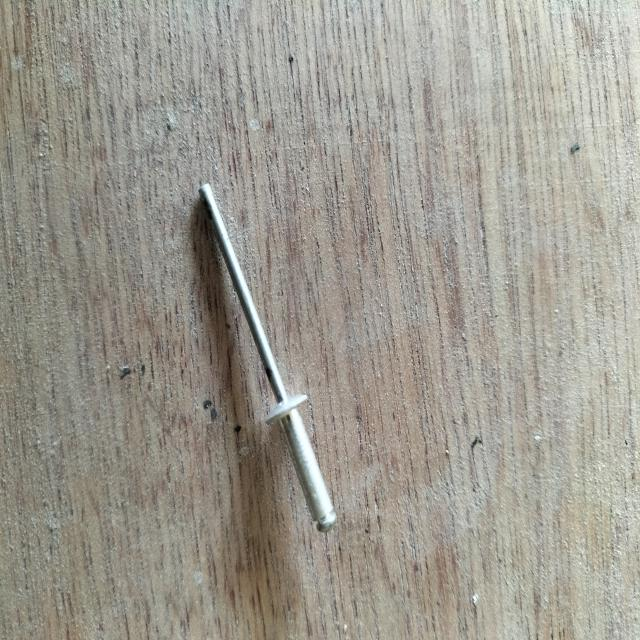rivet: (198, 182, 337, 534)
